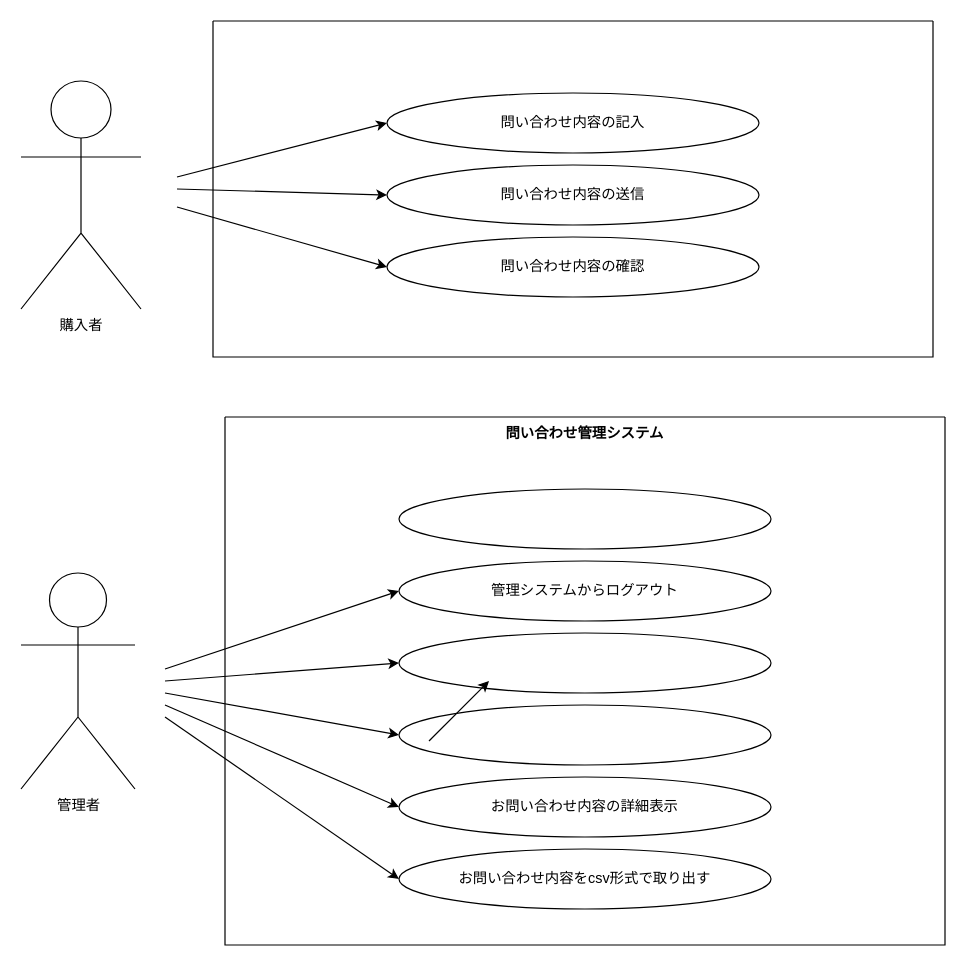
This 966x966 diagram has some shape labels left out. The shapes that lost their labels are listed below. From the top down, each one's box as (x1, y1, x2, y2) in pixels, then its label:
(212, 20, 933, 357): 問い合わせ送信システム
(398, 488, 771, 549): 管理システムにログイン
(398, 632, 771, 693): お問い合わせ内容を検索
(398, 704, 771, 765): お問い合わせ内容を削除
